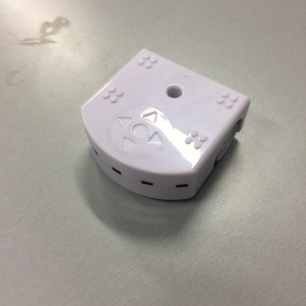thymio: (65, 46, 260, 213)
